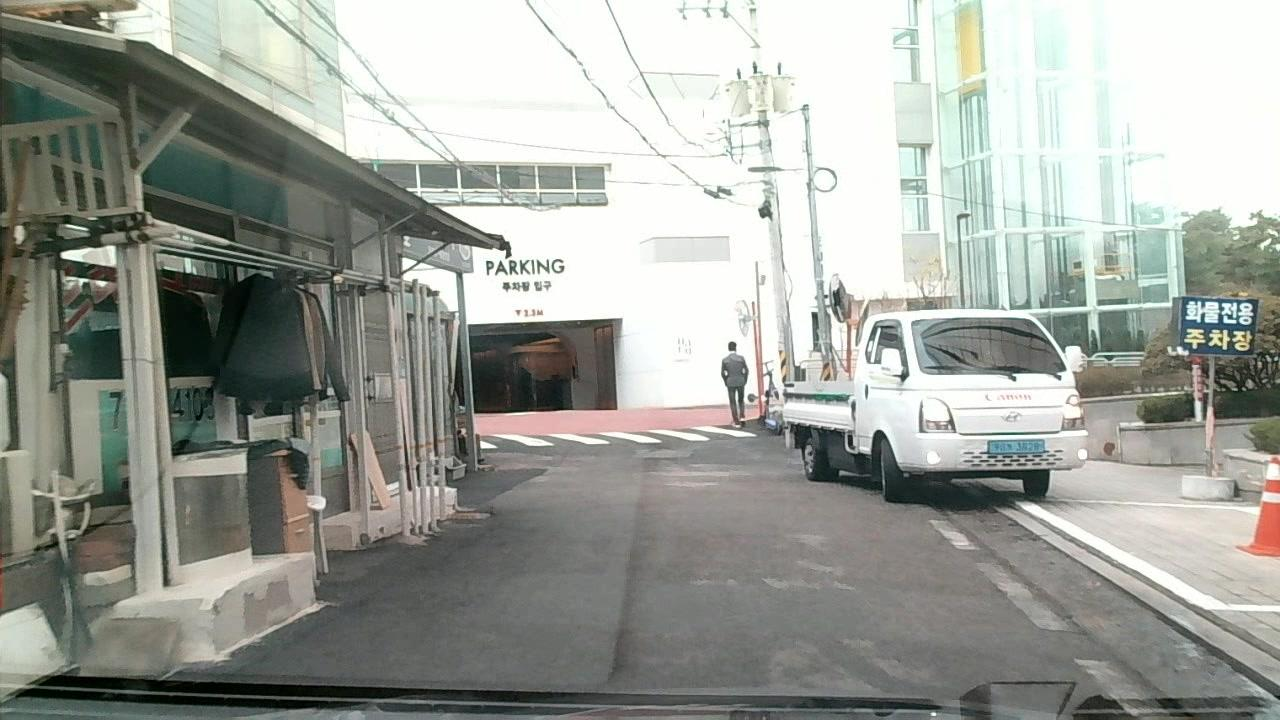vcrack: (605, 578, 631, 687)
